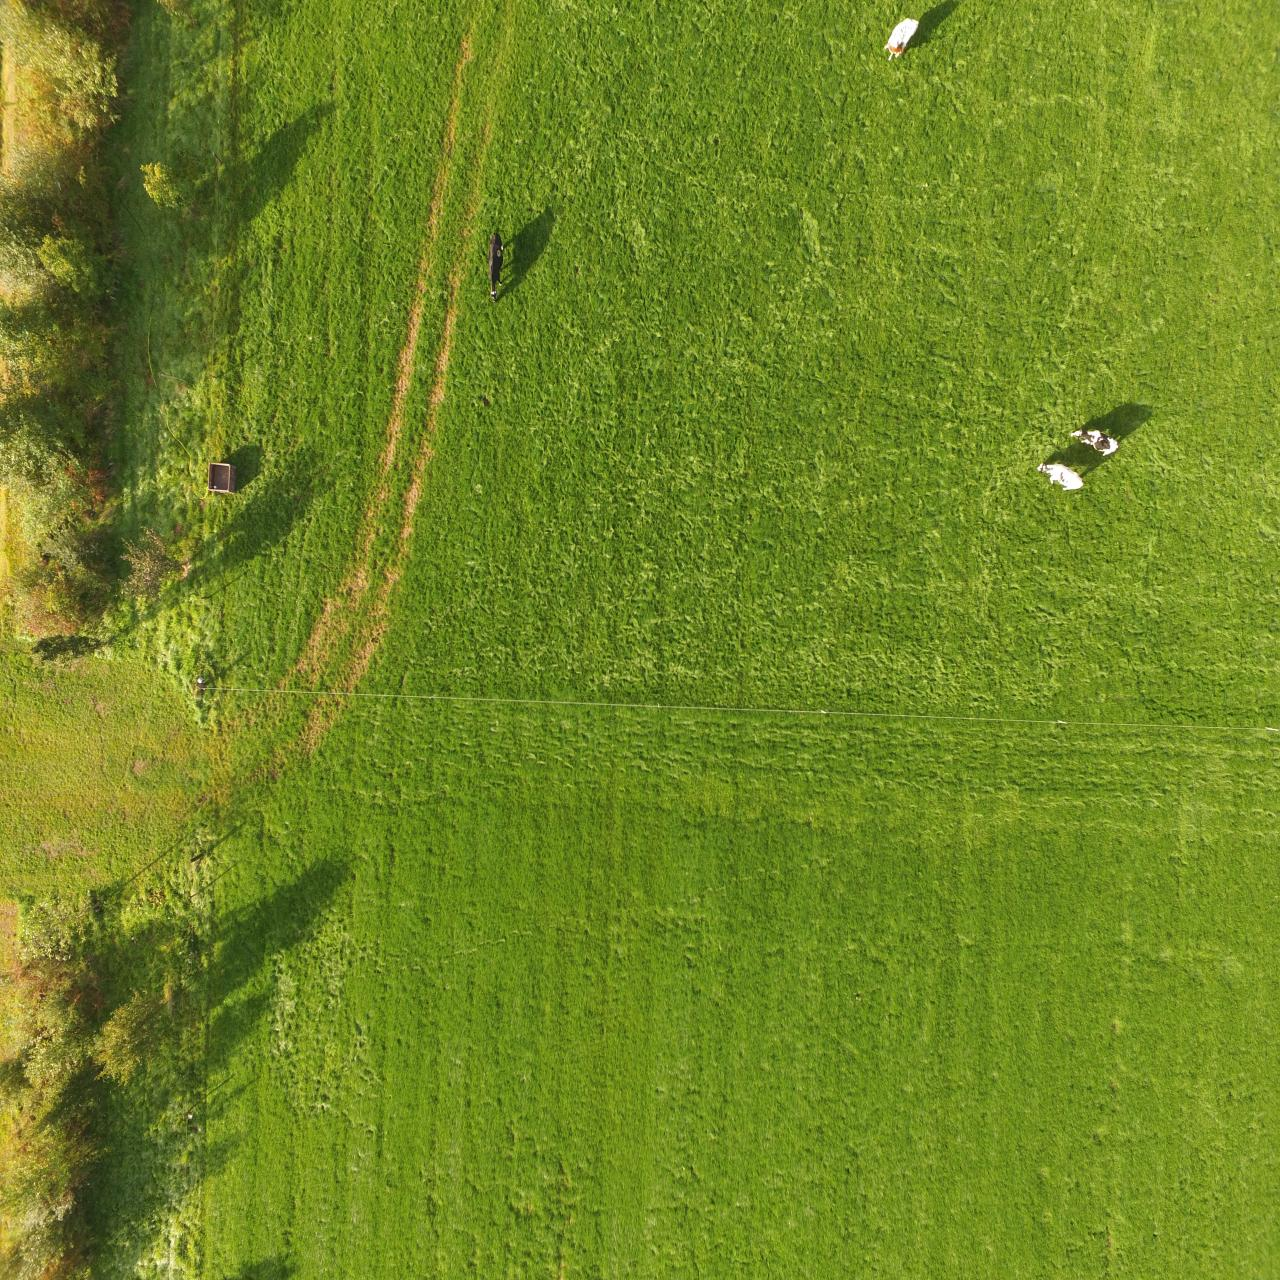cow: (1036, 458, 1085, 497), (881, 16, 919, 66), (1069, 427, 1119, 455), (486, 230, 504, 304)
